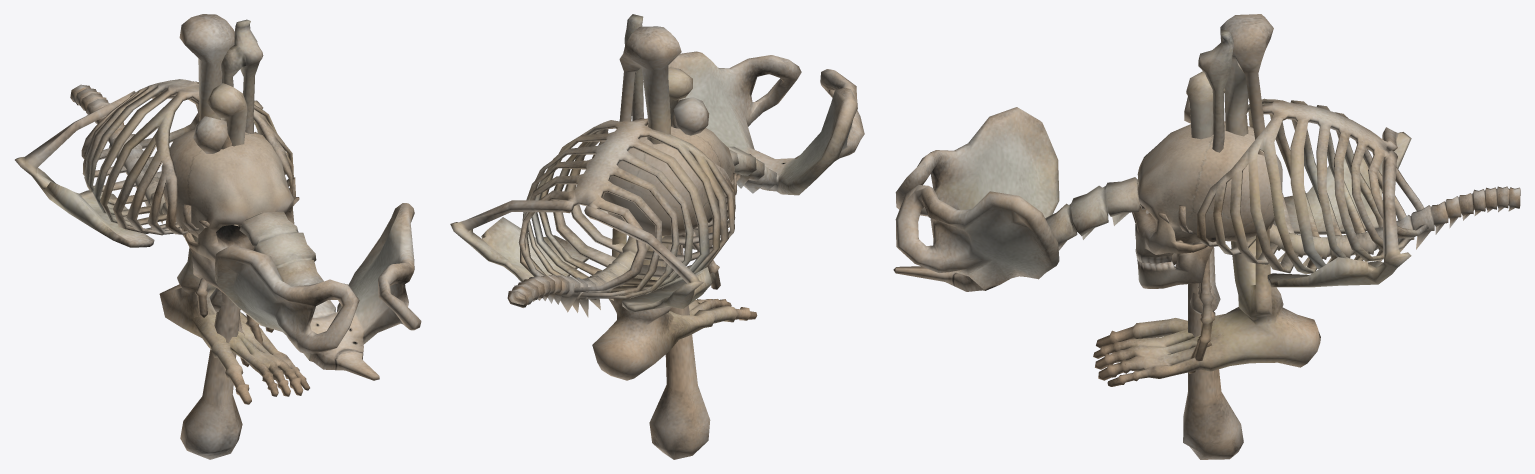
The model's file is skeleton_bones.FBX.
3 renders of one model, left to right at view 1: azimuth 30°, elevation 25°; view 2: azimuth 150°, elevation 25°; view 3: azimuth 270°, elevation 25°, orthographic. The views are drawn at different scales.
Visible parts, largest first — view 1: thorax_spine_hips, skull, tibias_perone_foot, femur, cubitus_radius_hand, humerus, jaw; view 2: thorax_spine_hips, tibias_perone_foot, femur, skull, cubitus_radius_hand, humerus; view 3: thorax_spine_hips, tibias_perone_foot, skull, femur, cubitus_radius_hand, humerus, jaw.
Part boxes in pixels (x1,y1,x2,y2): thorax_spine_hips: (15,79,421,380); skull: (161,129,294,261); tibias_perone_foot: (159,14,309,404); femur: (180,116,242,459); cubitus_radius_hand: (195,19,273,366); humerus: (206,83,247,311); jaw: (187,232,226,295); thorax_spine_hips: (450,51,864,317); tibias_perone_foot: (592,26,757,380); femur: (649,97,710,459); skull: (602,118,735,236); cubitus_radius_hand: (624,14,720,289); humerus: (666,67,692,278); thorax_spine_hips: (893,98,1520,291); tibias_perone_foot: (1093,14,1320,386); skull: (1132,121,1282,263); femur: (1183,97,1243,459); cubitus_radius_hand: (1188,29,1233,373); humerus: (1186,71,1225,314); jaw: (1137,240,1212,288).
Bounding box in the file's own units: 0.3852 × 0.8169 × 0.6417.
